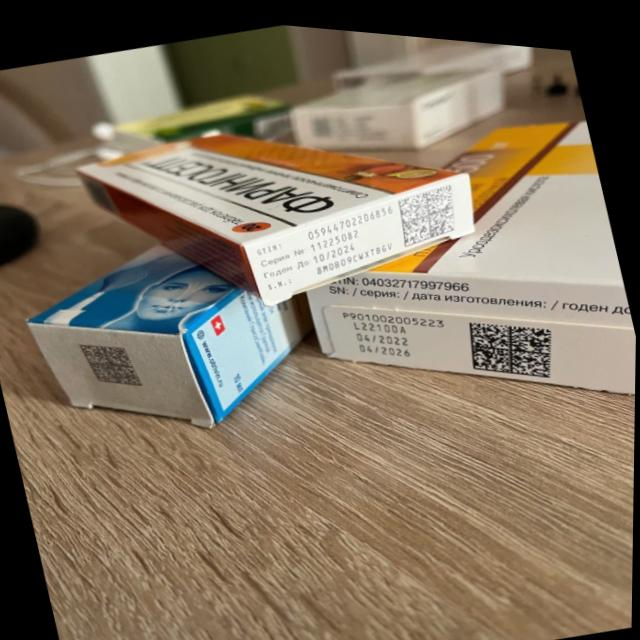datamatrix: (462, 293, 566, 388), (391, 168, 467, 245), (79, 327, 148, 397)
